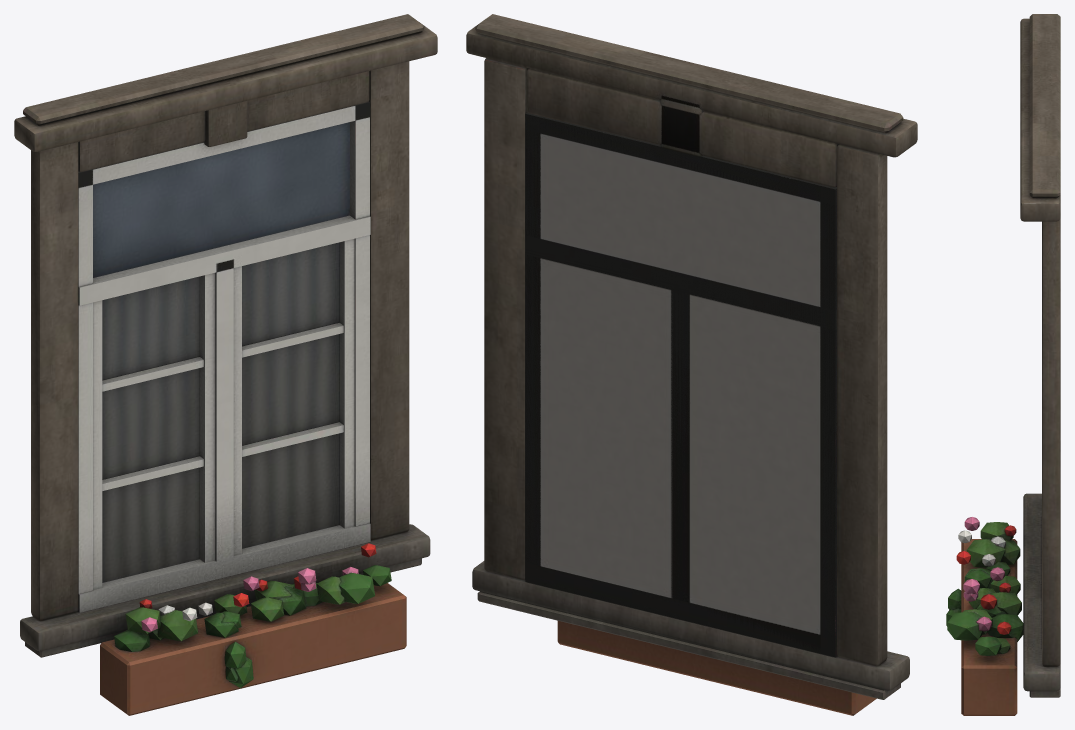
The model's file is win_town_bare_flowers.glb.
The picture shows the model from 3 angles, left to right: view 1: azimuth 30°, elevation 25°; view 2: azimuth 150°, elevation 25°; view 3: azimuth 270°, elevation 25°; orthographic projection. The views are drawn at different scales.
Visible parts, largest first — view 1: win_town_bare_flowers; view 2: win_town_bare_flowers; view 3: win_town_bare_flowers.
Boxes of the visible parts, box(x1,y1,x2,y2) form: win_town_bare_flowers: box(14, 14, 437, 715); win_town_bare_flowers: box(466, 14, 917, 715); win_town_bare_flowers: box(946, 14, 1060, 715).
Size of the model in its own units: 1.42 by 1.96 by 0.3683.
1 material, 1 textured.
